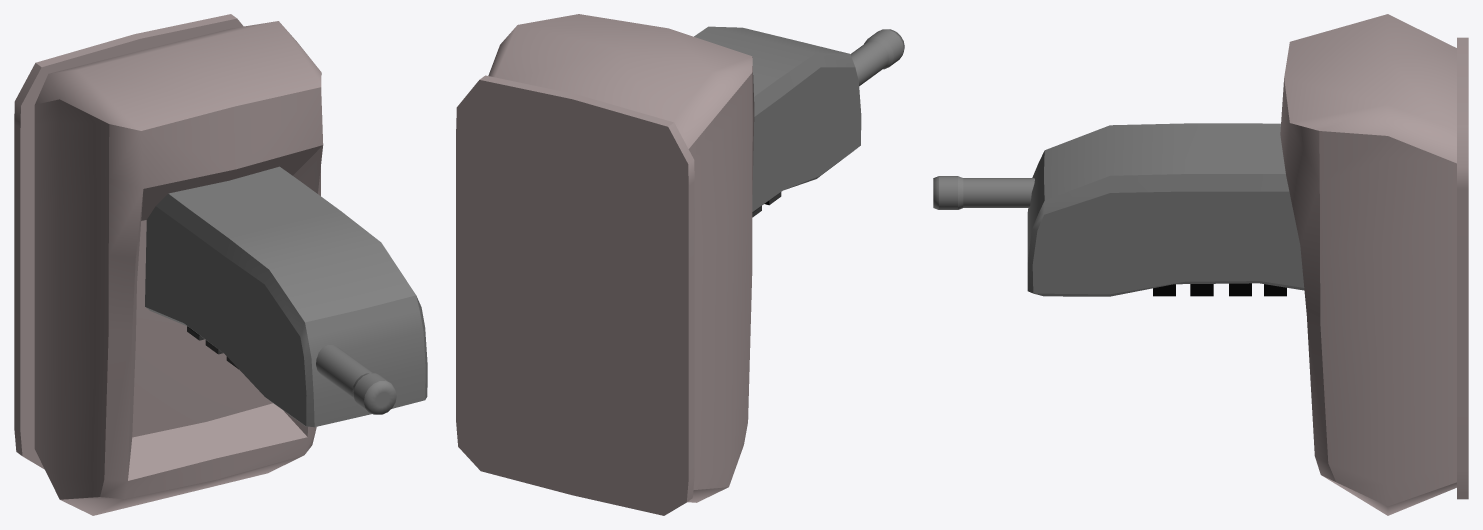
File: HousePhone01.fbx
3 views of the same model, side by side, from view 1: azimuth 30°, elevation 25°; view 2: azimuth 150°, elevation 25°; view 3: azimuth 270°, elevation 25° (orthographic). The views are drawn at different scales.
Parts seen in each view (by area): view 1: polySurface109, polySurface110, polySurface111; view 2: polySurface109, polySurface110, polySurface111; view 3: polySurface109, polySurface110, polySurface111, pCube597.
Boxes of the visible parts, x1,y1,x2,y2 form: polySurface109: (14,14,323,515); polySurface110: (145,166,427,427); polySurface111: (316,345,396,414); polySurface109: (456,14,754,515); polySurface110: (694,26,861,211); polySurface111: (850,29,904,85); polySurface109: (1280,14,1468,515); polySurface110: (1027,123,1304,296); polySurface111: (933,176,1034,209); pCube597: (1153,283,1286,296).
Bounding box in the file's own units: 17.19 × 30.67 × 35.74.
